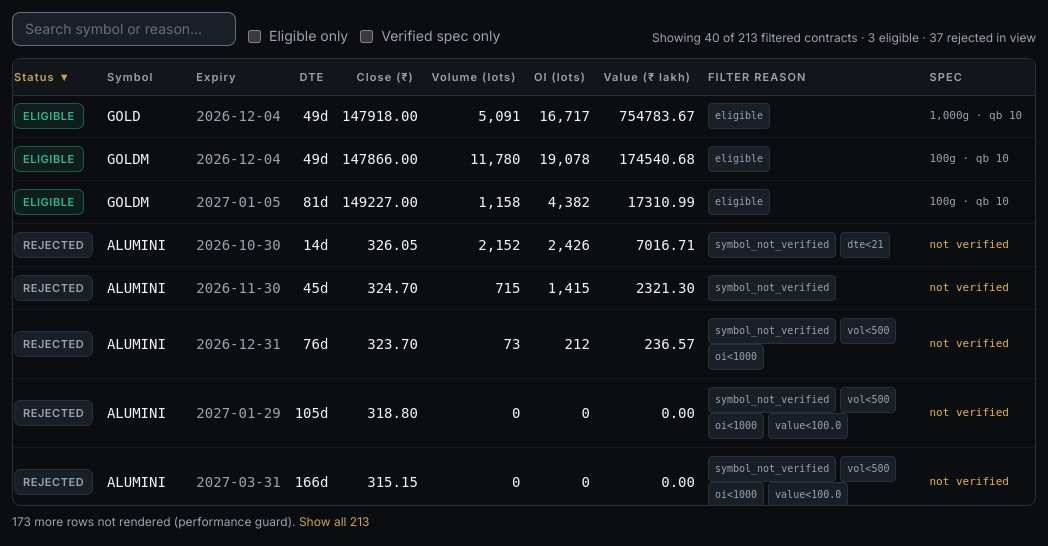
Test: EligibleContractsTable › narrows the filtered set from the search box
The width and height of the screenshot is (1048, 546).
Type "SYN07" into the search field with placeholder "Search symbol or reason…". click: (124, 29)
box: x1=12 y1=12 x2=236 y2=46
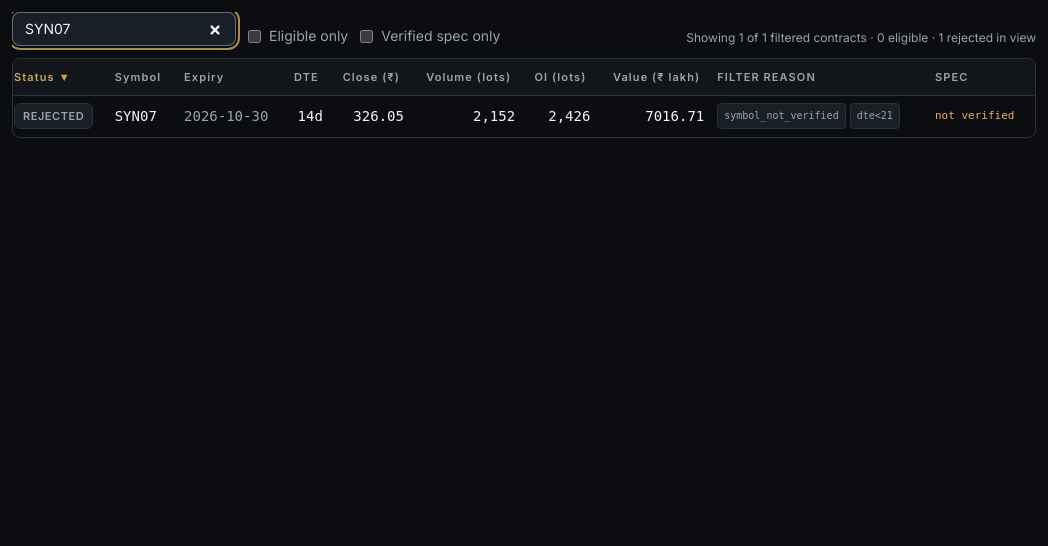
Expected: the text "Showing 1 of 1" is shown, x1=686 y1=30 x2=1036 y2=46
